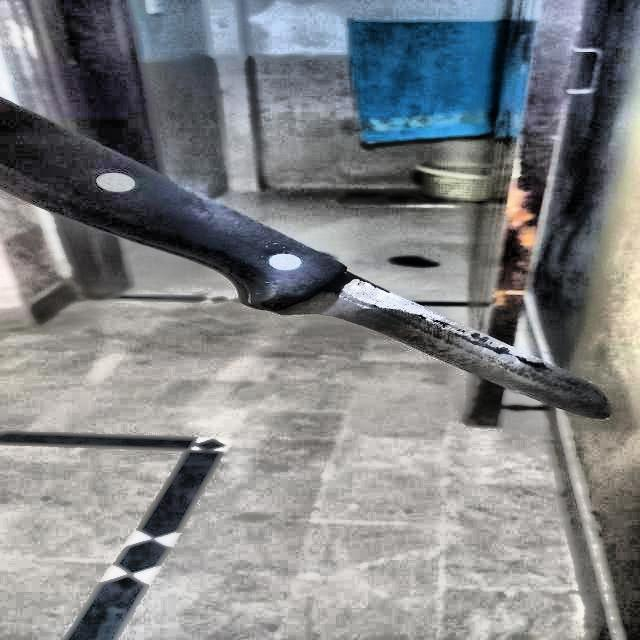knife: (2, 98, 613, 422)
